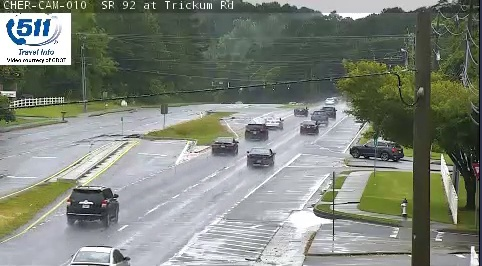car: (66, 186, 119, 220), (247, 148, 274, 165), (213, 136, 237, 153), (245, 124, 268, 140), (299, 120, 318, 134), (312, 110, 329, 125), (264, 116, 283, 129)
